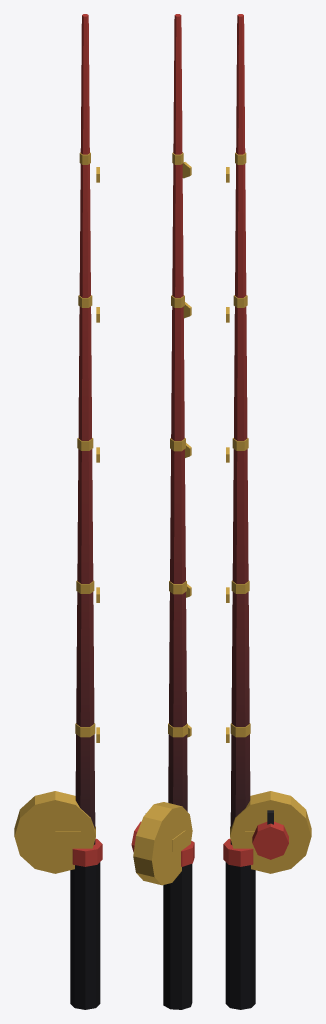
File: rod_carbon.glb
3 renders of one model, left to right at view 1: azimuth 90°, elevation 25°; view 2: azimuth 150°, elevation 25°; view 3: azimuth 270°, elevation 25°, orthographic.
Parts seen in each view (by area): view 1: rod_carbon; view 2: rod_carbon; view 3: rod_carbon.
Part boxes in pixels (<box>): rod_carbon: <box>14,14,102,1009</box>; rod_carbon: <box>131,14,194,1009</box>; rod_carbon: <box>223,14,311,1009</box>.
Size of the model in its own units: 0.1 by 2.54 by 0.205.
